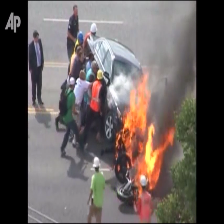fire_h: (121, 71, 175, 198)
fire_l: (115, 133, 121, 147), (116, 164, 120, 172), (115, 151, 118, 161), (126, 161, 129, 168)
